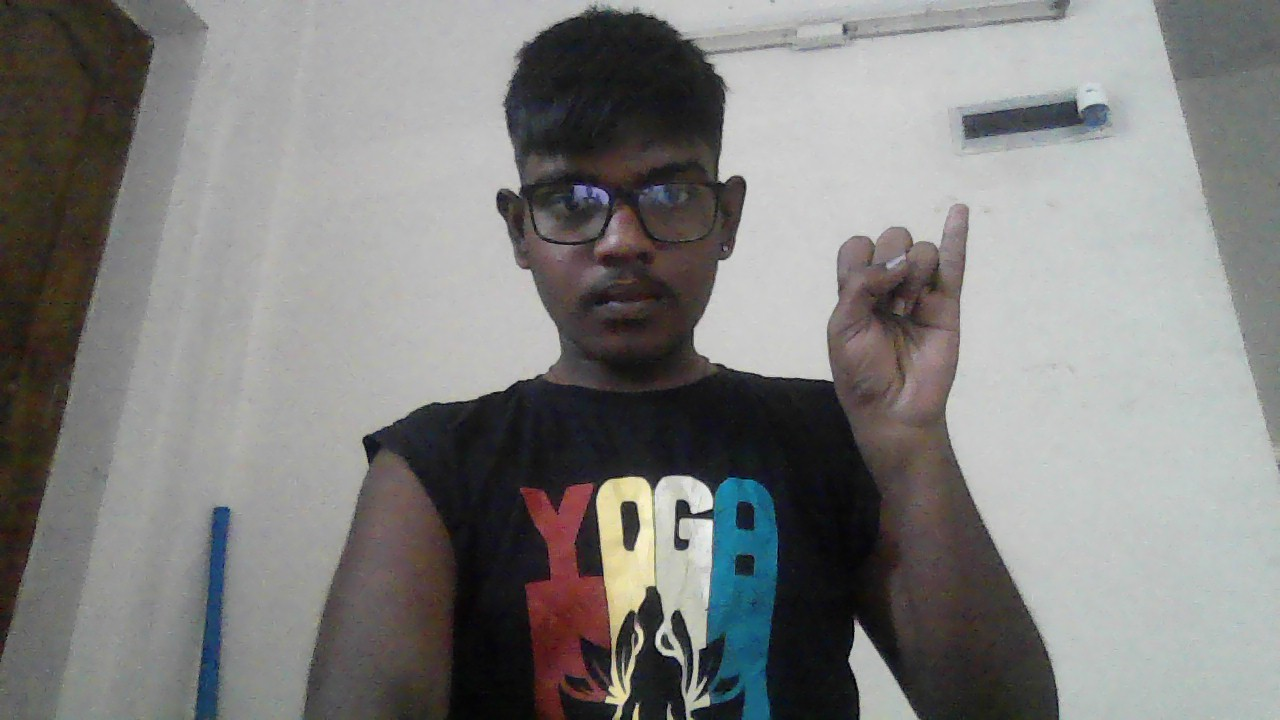I: (828, 202, 969, 441)
